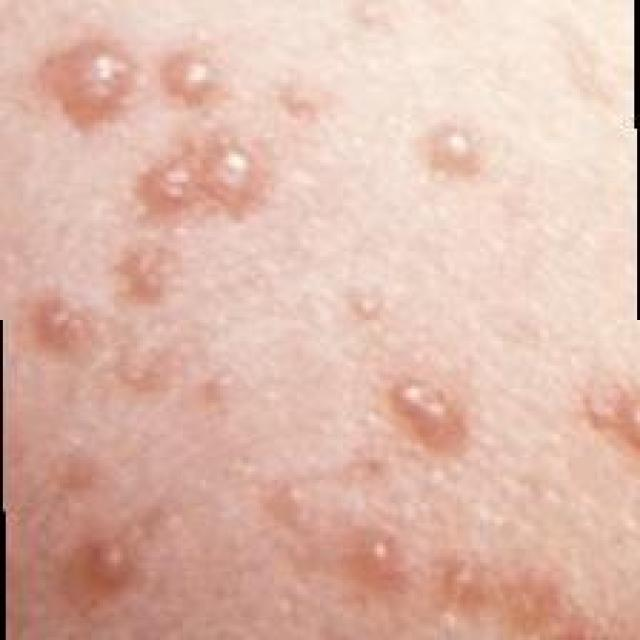others: (18, 19, 623, 640)
